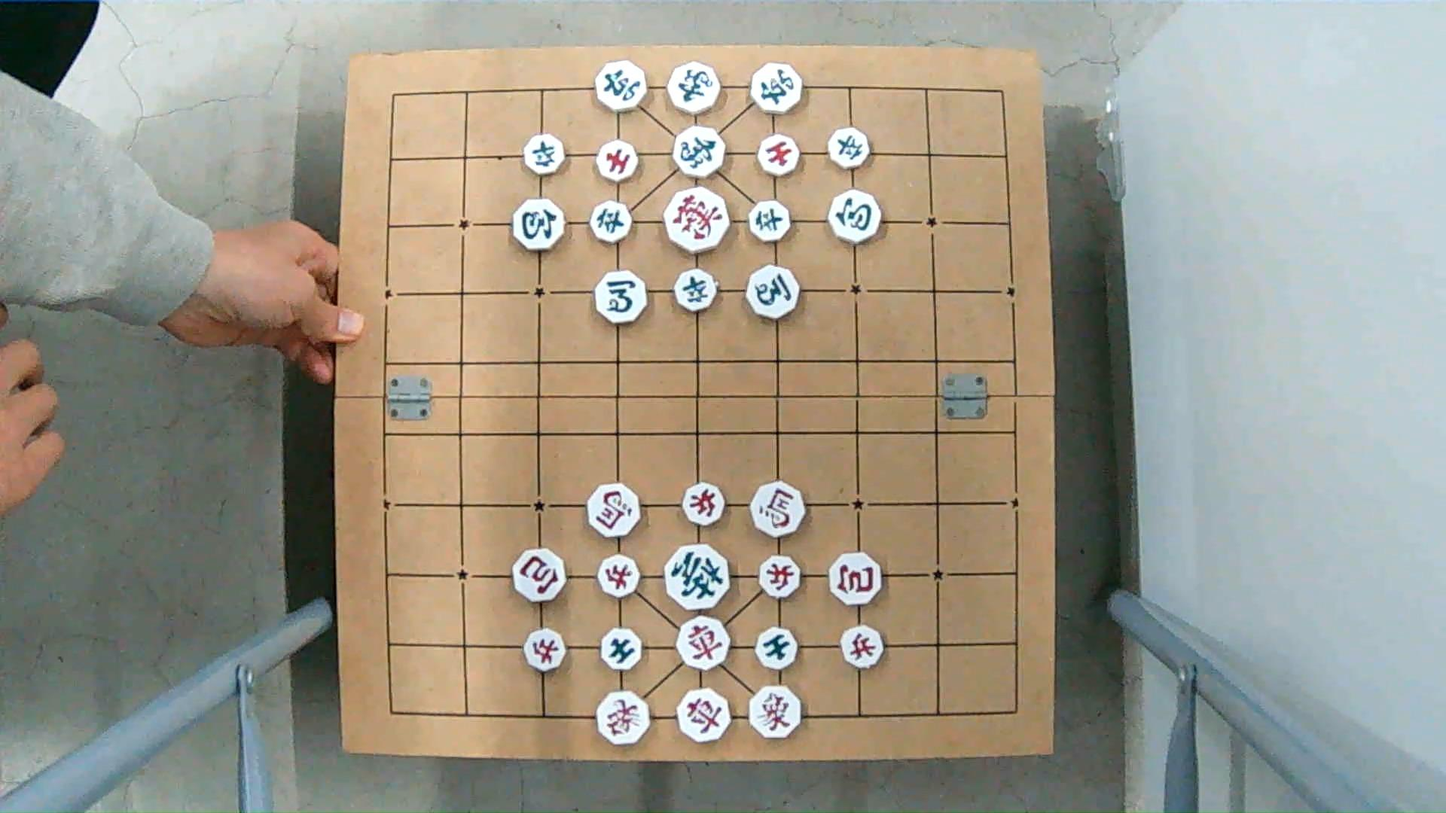cha_green: (747, 65, 805, 112), (592, 61, 650, 108)
cha_red: (674, 692, 734, 741), (672, 620, 731, 668)
jol_green: (668, 269, 718, 309), (750, 200, 795, 241), (825, 129, 871, 168), (590, 202, 636, 241), (523, 135, 569, 173)
jol_red: (682, 483, 727, 527), (594, 557, 645, 595), (756, 559, 804, 598), (522, 631, 571, 668), (837, 629, 885, 665)
ma_green: (743, 266, 803, 316), (593, 273, 650, 324)
ma_red: (749, 481, 806, 537), (584, 486, 644, 536)
po_green: (828, 193, 885, 243), (512, 200, 569, 250)
po_red: (831, 553, 883, 602), (514, 551, 566, 598)
sa_green: (597, 631, 647, 669), (754, 629, 801, 668)
sa_red: (595, 140, 641, 182), (755, 135, 803, 172)
sang_green: (668, 128, 728, 175), (667, 65, 722, 113)
sang_red: (743, 688, 804, 738), (592, 693, 652, 742)
wang_green: (664, 545, 734, 609)
wang_red: (661, 192, 731, 254)
